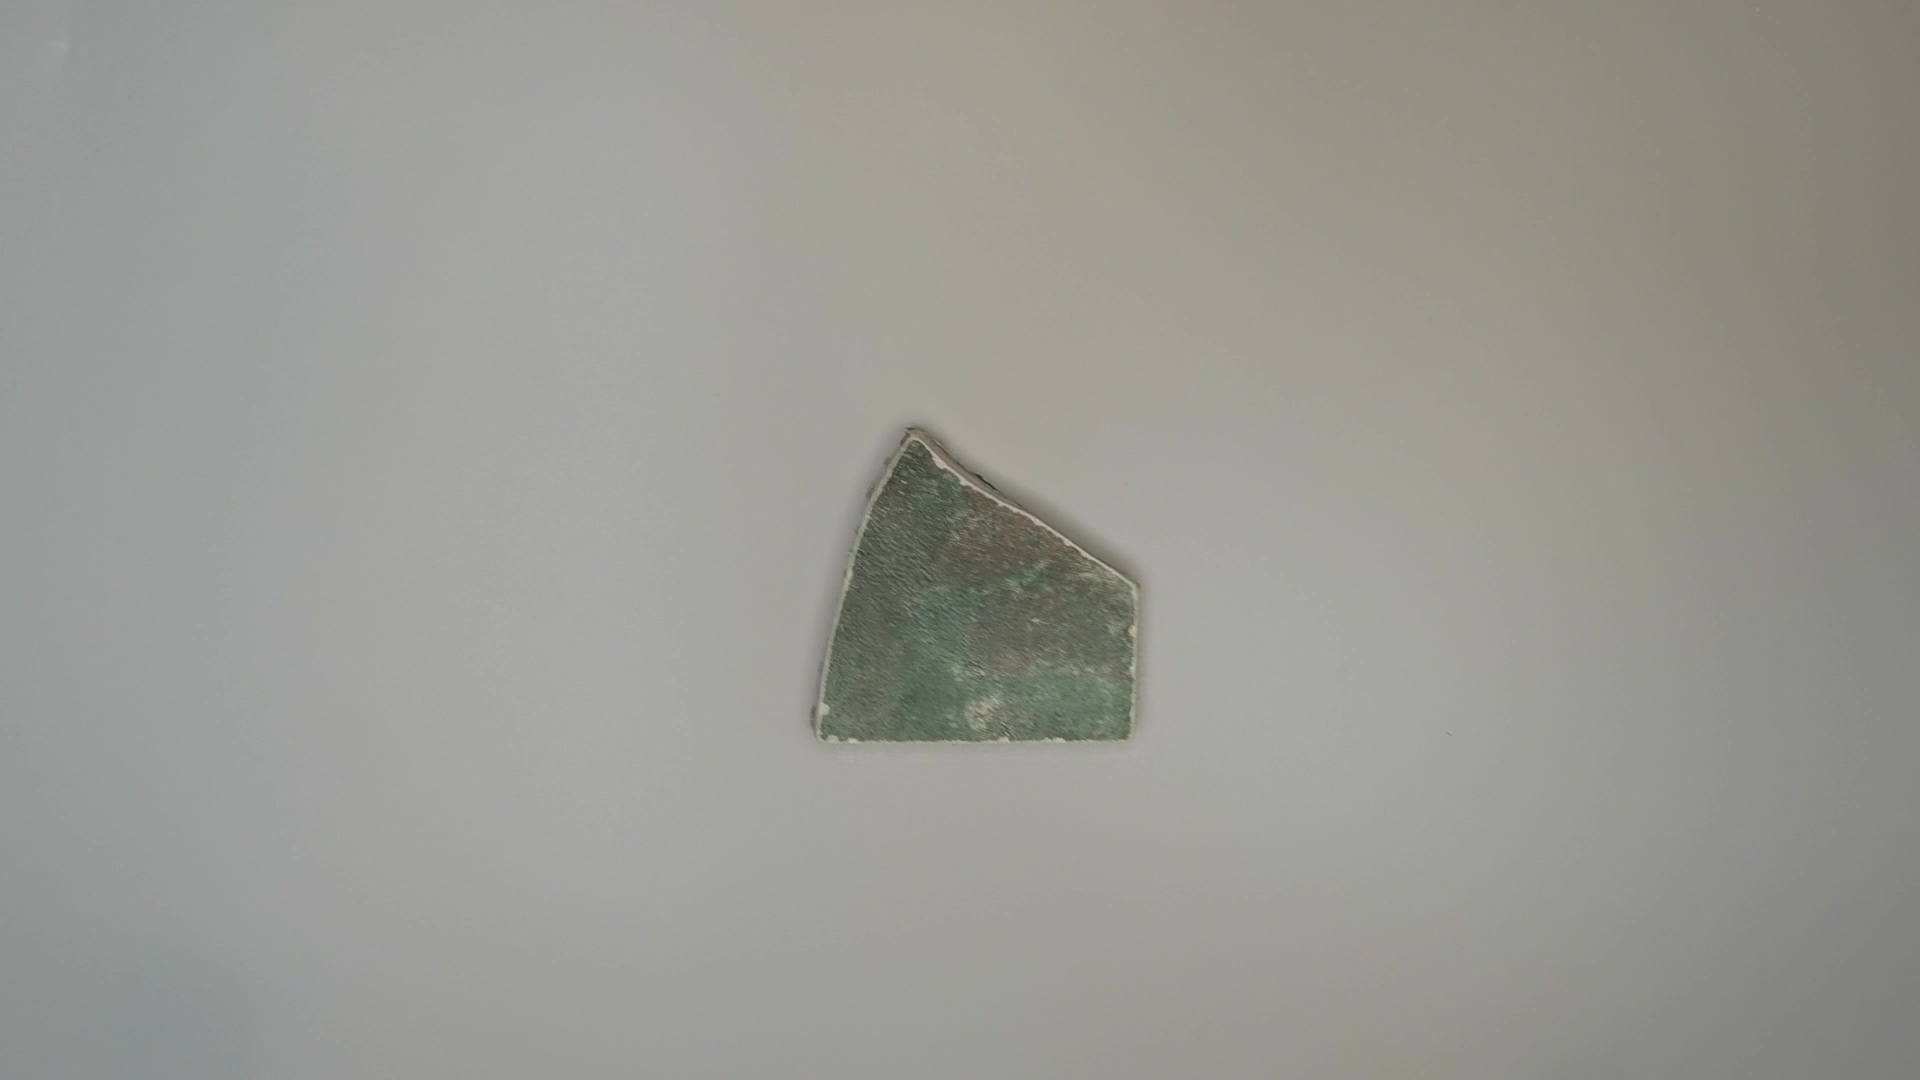ceramic: (806, 419, 1149, 767)
